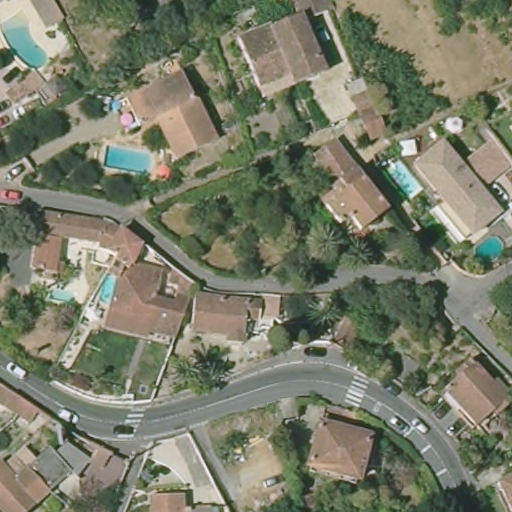pool: (1, 11, 54, 69), (376, 154, 429, 204), (97, 139, 161, 179), (466, 230, 507, 265), (98, 269, 124, 306), (44, 283, 79, 309)
